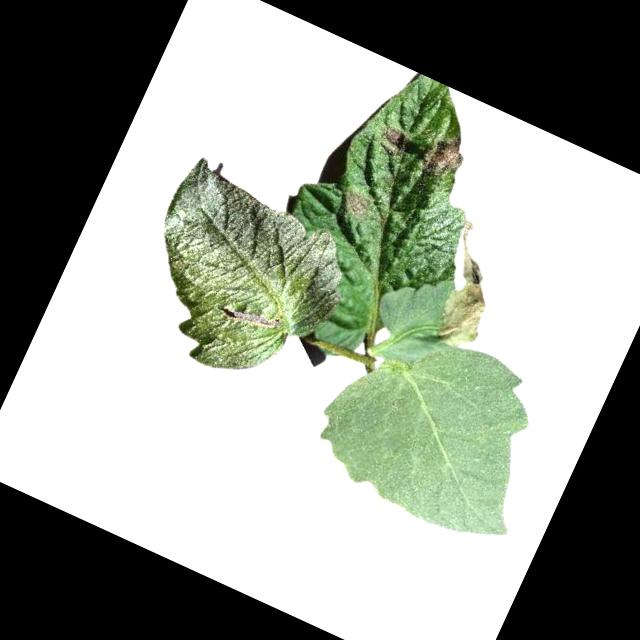Late_blight: (424, 233, 516, 354), (418, 129, 469, 187), (340, 187, 380, 224), (377, 124, 410, 155)
healthy: (298, 301, 574, 557), (115, 151, 372, 406)
